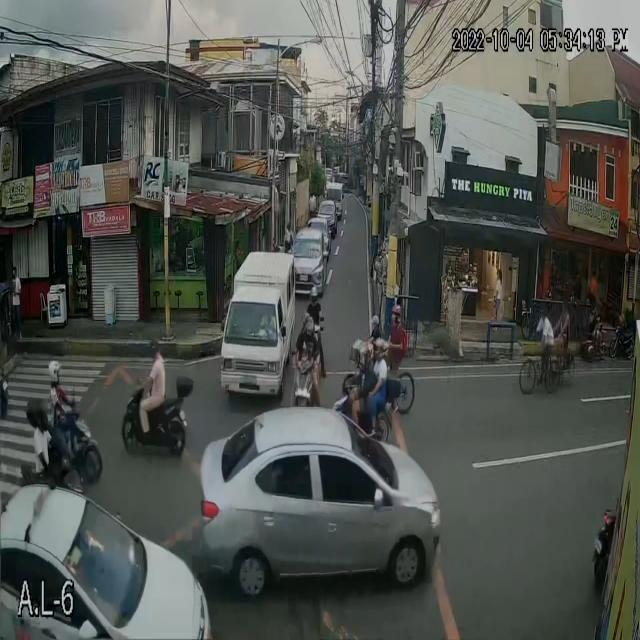Full-Faced: (23, 396, 55, 432), (362, 337, 378, 369), (374, 330, 387, 368), (350, 338, 364, 369), (302, 313, 318, 338), (47, 359, 62, 384), (310, 282, 320, 306)
Invalid: (146, 338, 158, 361)
